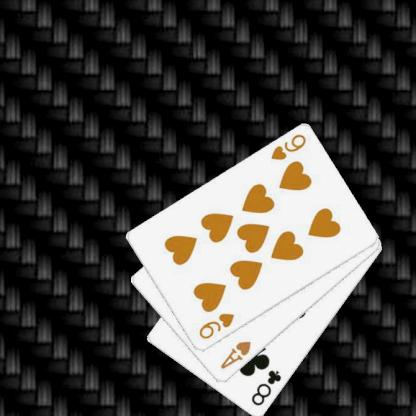8C: (248, 367, 283, 408)
9H: (196, 310, 236, 341), (268, 132, 307, 162)
AH: (217, 338, 253, 372)
